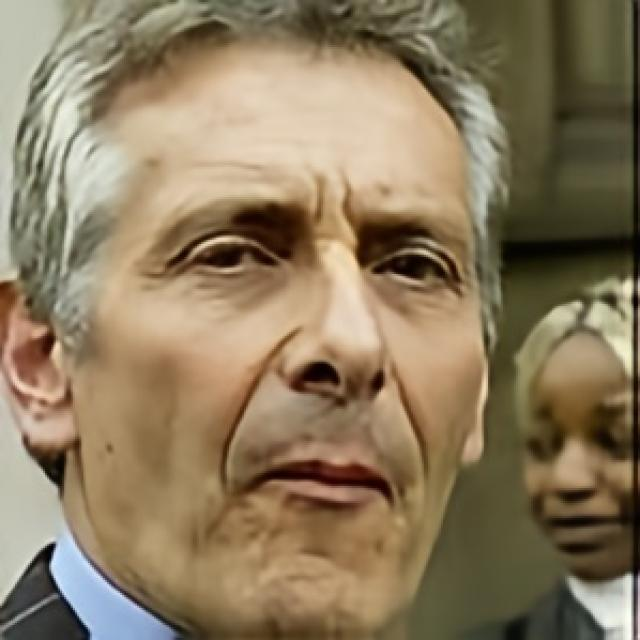anger: (83, 49, 486, 608)
